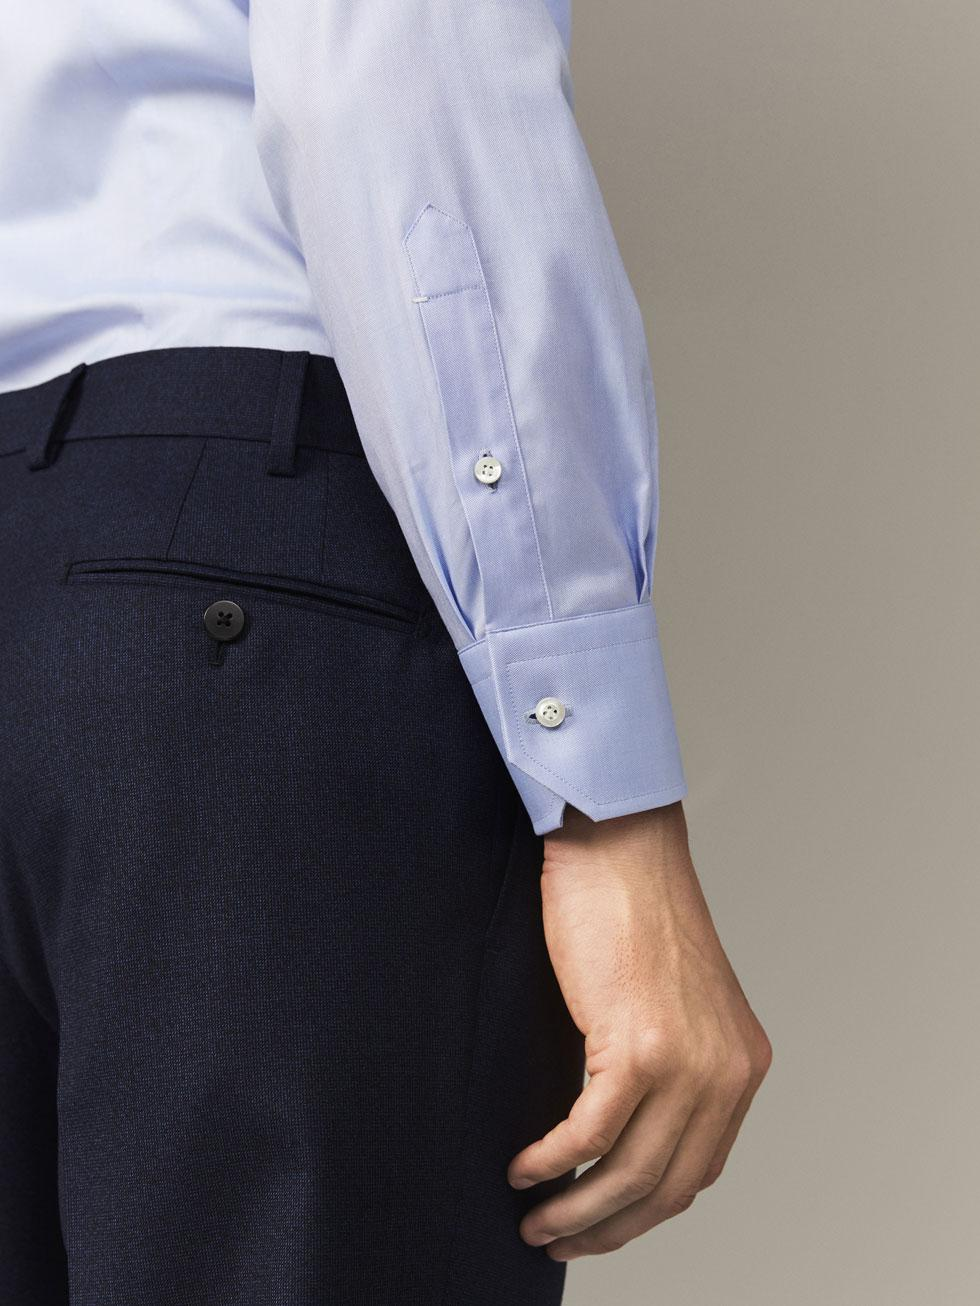teeshirt: (1, 1, 741, 845)
